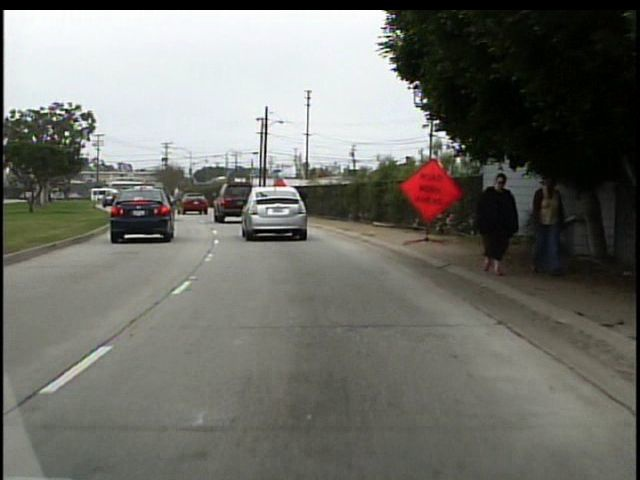person: (464, 169, 519, 283), (524, 165, 572, 284)
